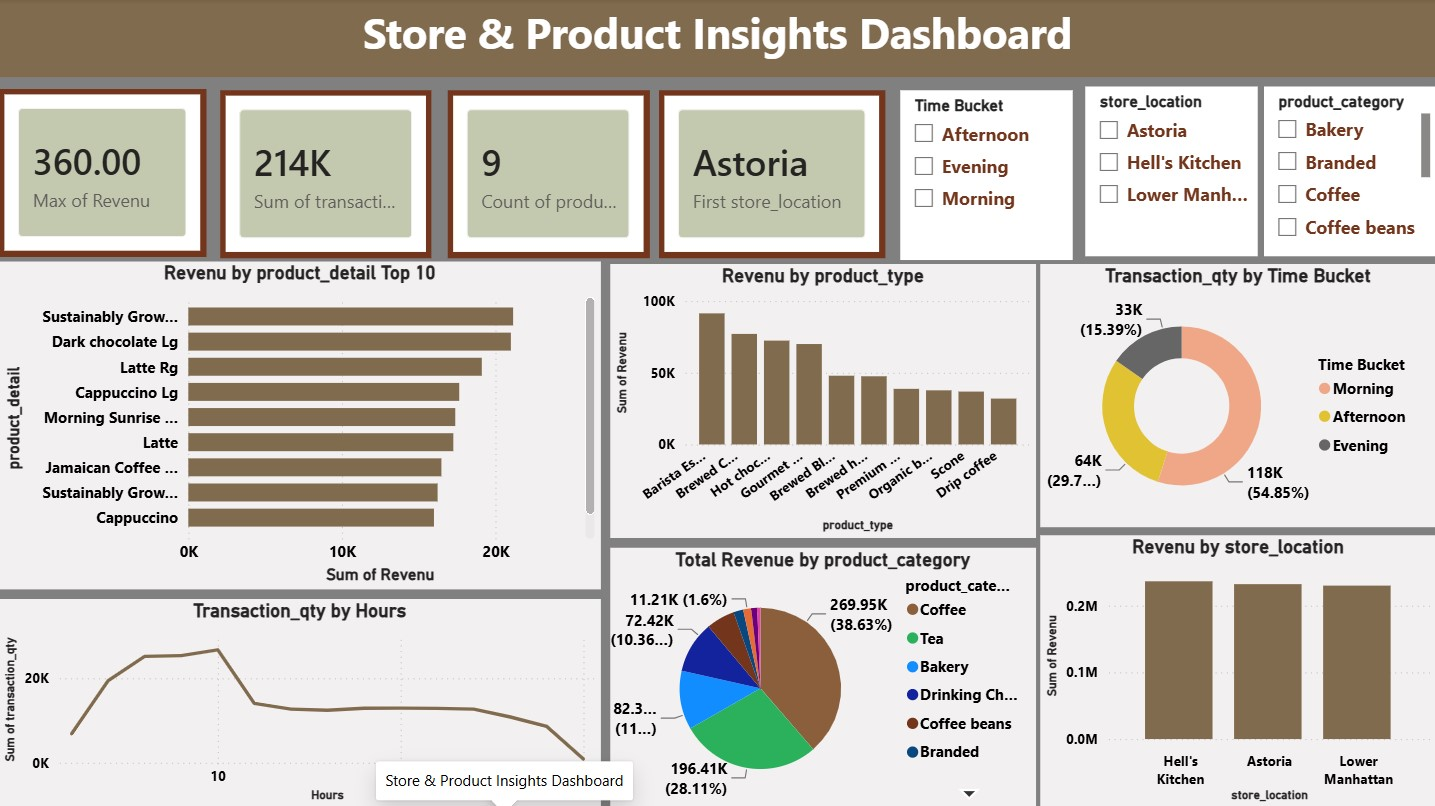

The page's visual inventory and layout, read from the dashboard file:
{"tool":"powerbi","page":{"name":"Store & Product Insights Dashboard","canvas":[1280,720],"ordinal":1},"visuals":[{"type":"textbox","box":[0,0,1280,70],"z":0},{"type":"cardVisual","fields":{"Data":["Max(Transactions.Revenu)"]},"box":[0,79.6,184.6,149.6],"z":1000},{"type":"cardVisual","fields":{"Data":["Sum(Transactions.transaction_qty)"]},"box":[196.6,80.8,188.2,149.6],"z":2000},{"type":"cardVisual","fields":{"Data":["Count(Transactions.product_category)"]},"box":[399.3,80.8,179.8,149.6],"z":3000},{"type":"cardVisual","fields":{"Data":["Min(Transactions.store_location)"]},"box":[587.5,80.8,201.5,149.6],"z":4000},{"type":"clusteredBarChart","title":" Revenu by product_detail Top 10","fields":{"Category":["Transactions.product_detail"],"Y":["Sum(Transactions.Revenu)"]},"box":[0,234,535.7,292],"z":5000},{"type":"lineChart","title":"Transaction_qty by Hours","fields":{"Category":["Transactions.Hours"],"Y":["Sum(Transactions.transaction_qty)"]},"box":[0,534.5,535.7,185.8],"z":6000},{"type":"donutChart","title":"Transaction_qty by Time Bucket","fields":{"Category":["Transactions.Time Bucket"],"Y":["Sum(Transactions.transaction_qty)"]},"box":[927.7,236.5,352.3,234],"z":7000},{"type":"clusteredColumnChart","title":"Revenu by product_type","fields":{"Category":["Transactions.product_type"],"Y":["Sum(Transactions.Revenu)"]},"box":[544.1,236.5,378.8,243.7],"z":8000},{"type":"clusteredColumnChart","title":" Revenu by store_location","fields":{"Category":["Transactions.store_location"],"Y":["Sum(Transactions.Revenu)"]},"box":[927.8,477.8,352.3,242.5],"z":9000},{"type":"slicer","fields":{"Values":["Transactions.Time Bucket"]},"box":[802.3,80.8,153.2,150.8],"z":11000},{"type":"slicer","fields":{"Values":["Transactions.store_location"]},"box":[967.6,78.4,153.2,150.8],"z":12000},{"type":"slicer","fields":{"Values":["Transactions.product_category"]},"box":[1126.8,78.4,153.2,150.8],"z":13000},{"type":"pieChart","fields":{"Category":["Transactions.product_category"],"Y":["Transactions.Total Revenue"]},"box":[544.1,488.6,378.8,231.6],"z":13001}]}

Visuals, with their boxes in screenshot pixels (x1, y1, x2, y2), scaled from the page's 1280x720 canvas onto the 1435x806 screenshot:
textbox: {"left": 0, "top": 0, "right": 1434, "bottom": 78}
cardVisual - Max(Transactions.Revenu): {"left": 0, "top": 89, "right": 207, "bottom": 257}
cardVisual - Sum(Transactions.transaction_qty): {"left": 220, "top": 90, "right": 431, "bottom": 258}
cardVisual - Count(Transactions.product_category): {"left": 448, "top": 90, "right": 649, "bottom": 258}
cardVisual - Min(Transactions.store_location): {"left": 659, "top": 90, "right": 885, "bottom": 258}
" Revenu by product_detail Top 10" clusteredBarChart: {"left": 0, "top": 262, "right": 601, "bottom": 589}
"Transaction_qty by Hours" lineChart: {"left": 0, "top": 598, "right": 601, "bottom": 805}
"Transaction_qty by Time Bucket" donutChart: {"left": 1040, "top": 265, "right": 1434, "bottom": 527}
"Revenu by product_type" clusteredColumnChart: {"left": 610, "top": 265, "right": 1035, "bottom": 538}
" Revenu by store_location" clusteredColumnChart: {"left": 1040, "top": 535, "right": 1434, "bottom": 805}
slicer - Transactions.Time Bucket: {"left": 899, "top": 90, "right": 1071, "bottom": 259}
slicer - Transactions.store_location: {"left": 1085, "top": 88, "right": 1257, "bottom": 257}
slicer - Transactions.product_category: {"left": 1263, "top": 88, "right": 1434, "bottom": 257}
pieChart - Transactions.product_category x Transactions.Total Revenue: {"left": 610, "top": 547, "right": 1035, "bottom": 805}
